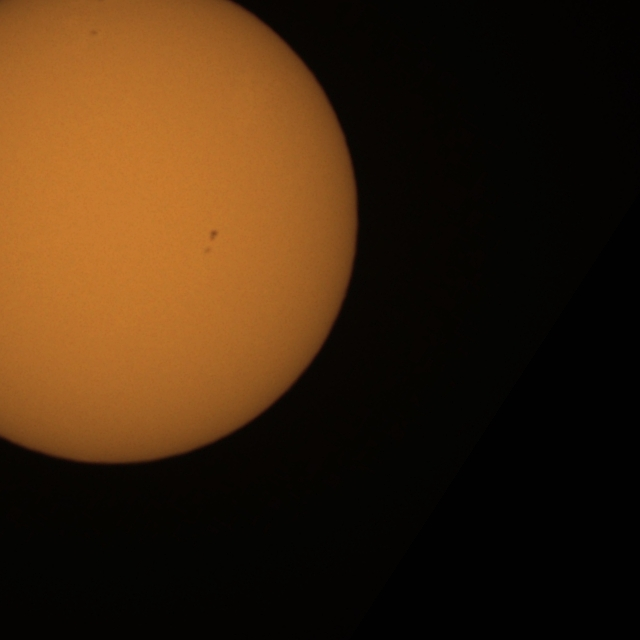sunspot: (202, 229, 220, 255)
